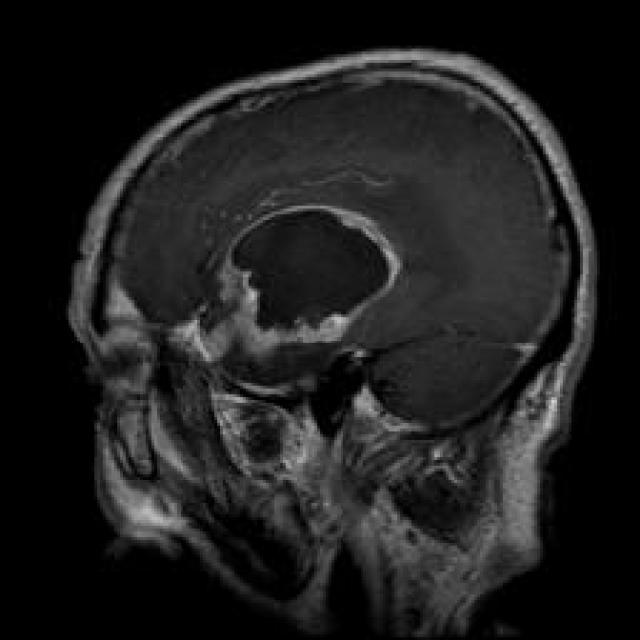glioma_tumor: (202, 195, 409, 366)
